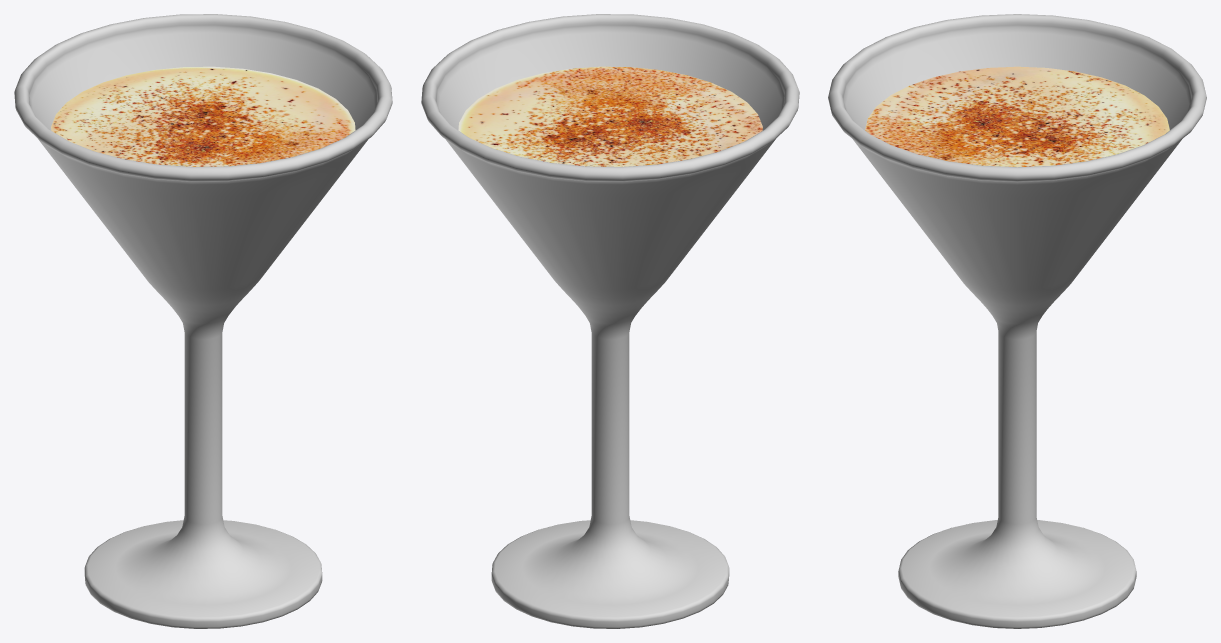
The model's file is alexander.fbx.
The picture shows the model from 3 angles, left to right: view 1: azimuth 30°, elevation 25°; view 2: azimuth 150°, elevation 25°; view 3: azimuth 270°, elevation 25°; orthographic projection.
Parts seen in each view (by area): view 1: Cocktail Glass.001, lichid .002; view 2: Cocktail Glass.001, lichid .002; view 3: Cocktail Glass.001, lichid .002.
Boxes of the visible parts, x1,y1,x2,y2 form: Cocktail Glass.001: (14,14,392,628); lichid .002: (51,66,355,166); Cocktail Glass.001: (421,14,799,628); lichid .002: (458,66,762,166); Cocktail Glass.001: (828,14,1206,628); lichid .002: (865,66,1169,167).
Size of the model in its own units: 10.21 by 14.54 by 10.21.
